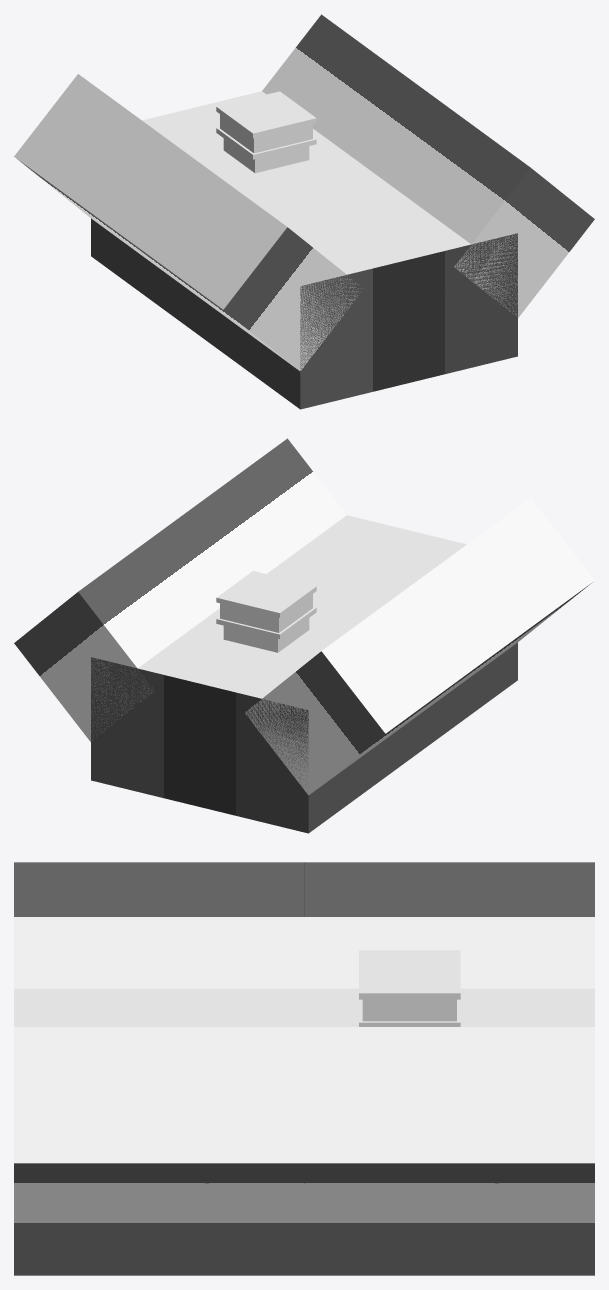
The model's file is gpp_v10.obj.
3 renders of one model, top to bottom at view 1: azimuth 30°, elevation 25°; view 2: azimuth 150°, elevation 25°; view 3: azimuth 270°, elevation 25°, orthographic. The views are drawn at different scales.
Parts seen in each view (by area): view 1: engine, cube; view 2: engine, cube; view 3: engine, cube.
Boxes of the visible parts, box(x1,y1,x2,y2) form: engine: box(14, 14, 594, 409); cube: box(216, 91, 316, 173); engine: box(14, 438, 594, 833); cube: box(216, 571, 316, 652); engine: box(14, 862, 594, 1275); cube: box(359, 950, 460, 1026).
Size of the model in its own units: 0.8494 by 0.4055 by 0.8293.
